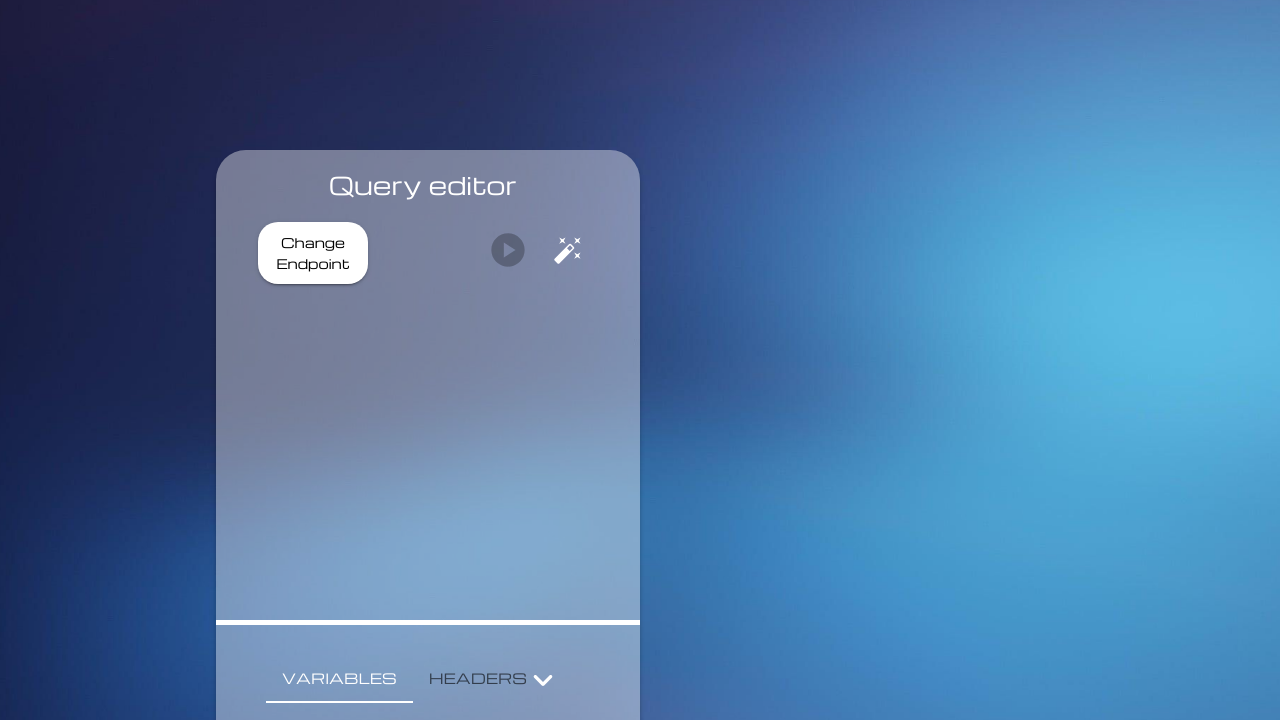
Test: Main › should switch state of the Change/Accept Endpoint button on click
Click the button "Change Endpoint".
click(313, 253)  # box x1=258 y1=222 x2=368 y2=284
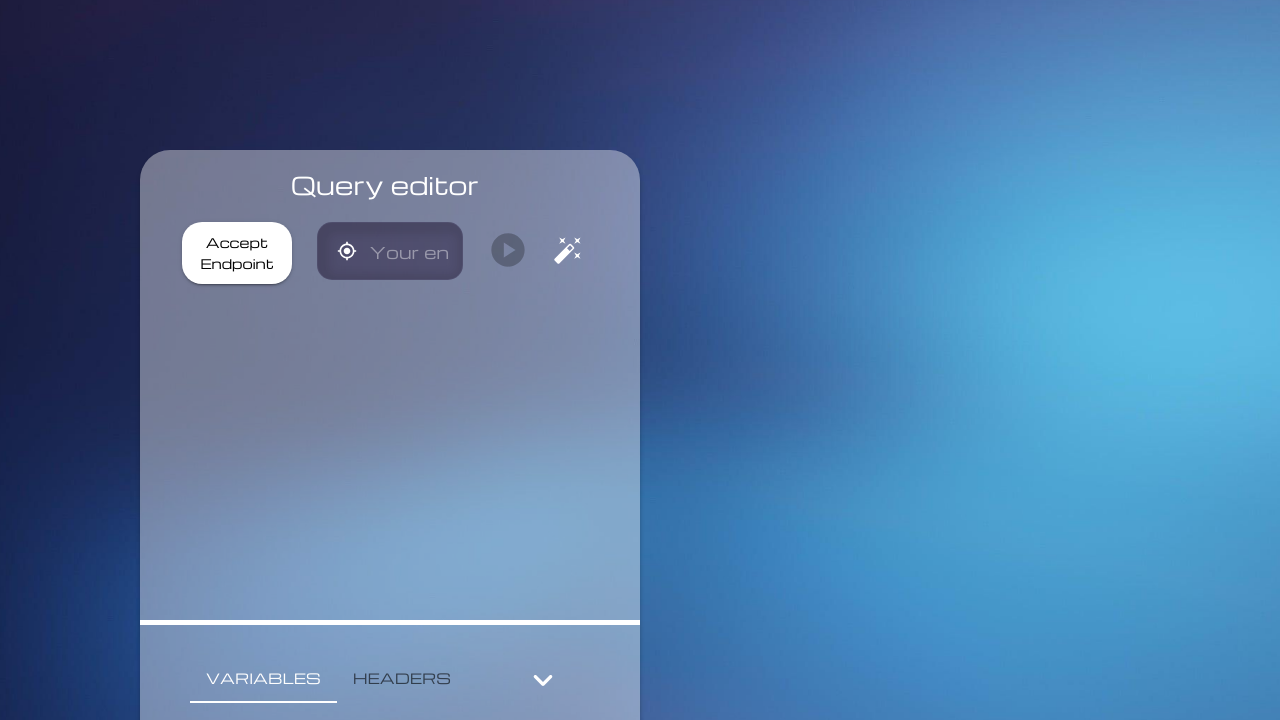
Check: the button "Change Endpoint" reads "Accept Endpoint"
Click the button "Change Endpoint".
click(237, 253)  # box x1=182 y1=222 x2=292 y2=284
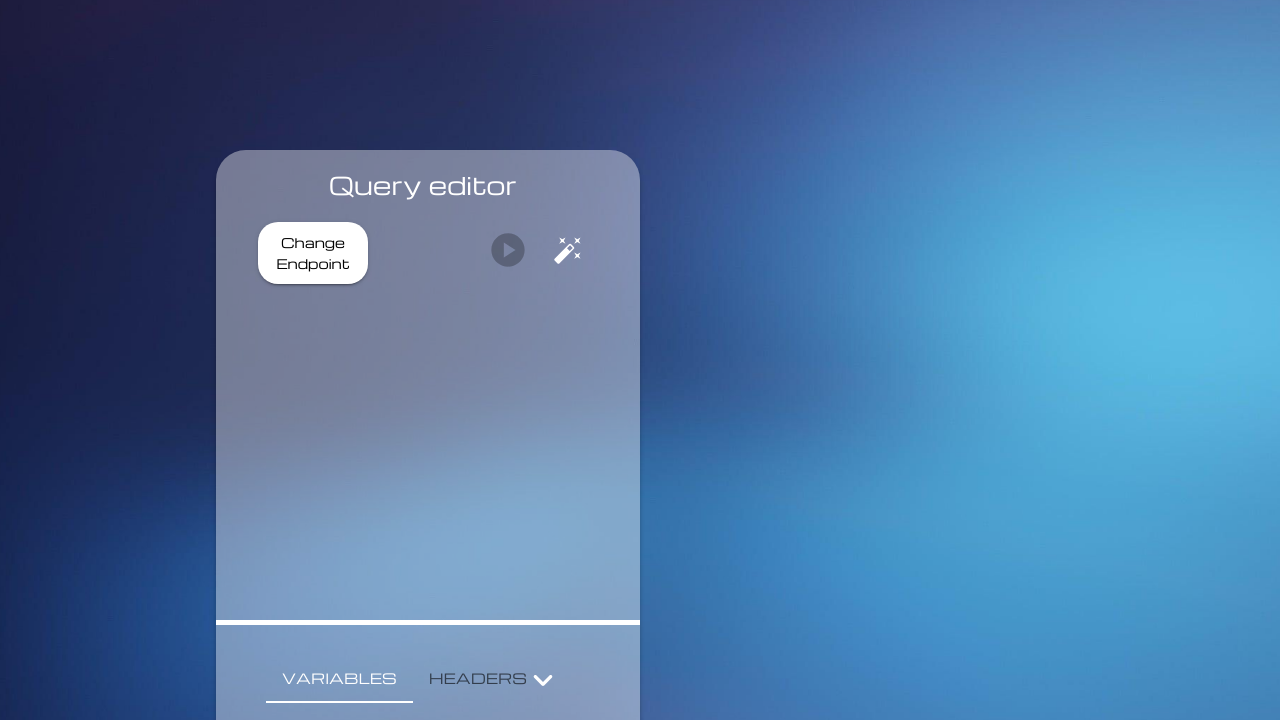
Check: the button "Change Endpoint" is shown, box x1=258 y1=222 x2=368 y2=284
